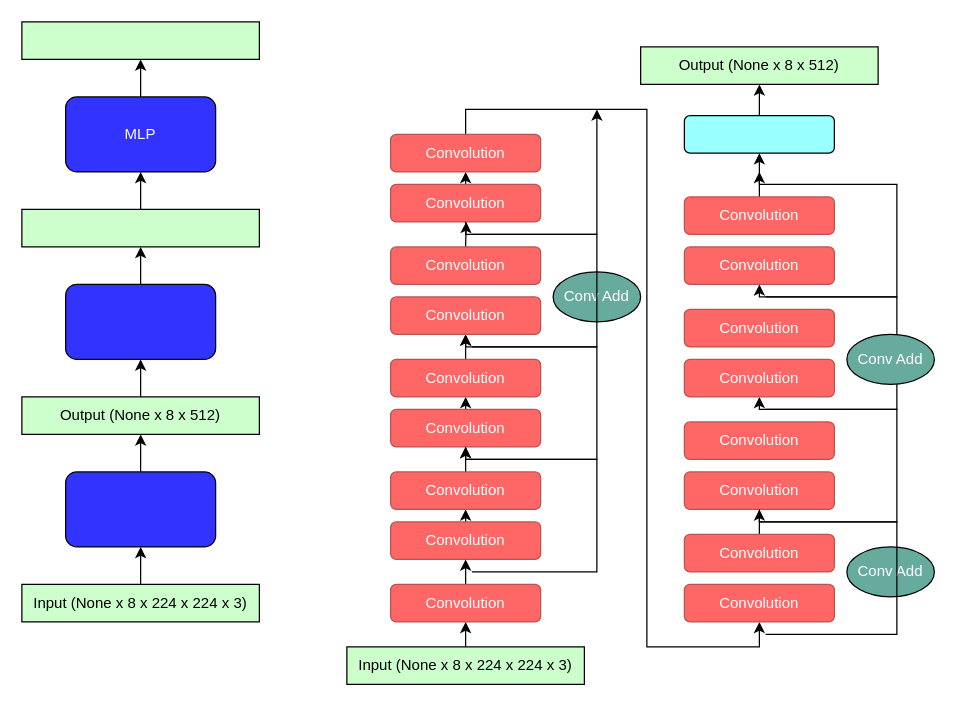
The diagram is 956 pixels wide and 706 high, and some of its shapes have lost their labels. The centre of each missing label's shape, as x and y in pixels:
"Fully Connected" goes at pixel 758 133.
"LSTM" goes at pixel 140 321.
"Output (None x 8 x 1024)" goes at pixel 140 227.
"Output (None x 8 x 17 x 3)" goes at pixel 140 40.
"ResNet18" goes at pixel 140 509.
